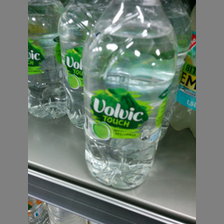water: (82, 1, 177, 191), (29, 1, 67, 121)
